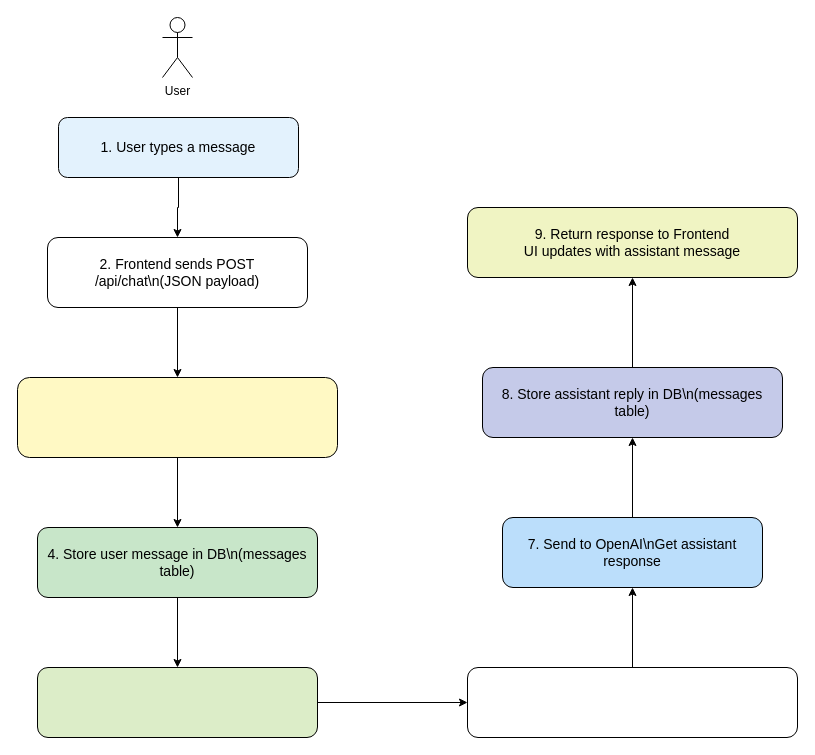
Image size: 815x755. Some labels were removed from this diagram. Here are the shapes that lost their labels. From the top down, the box of each, then its label:
(16, 376, 338, 458): 3. Backend validates message\n(project exists, length OK)
(36, 666, 318, 738): 5. (Optional) Generate embedding\nStore vector in DB/VectorDB
(466, 666, 798, 738): 6. Fetch recent conversation from DB\n(prepare messages for AI)
